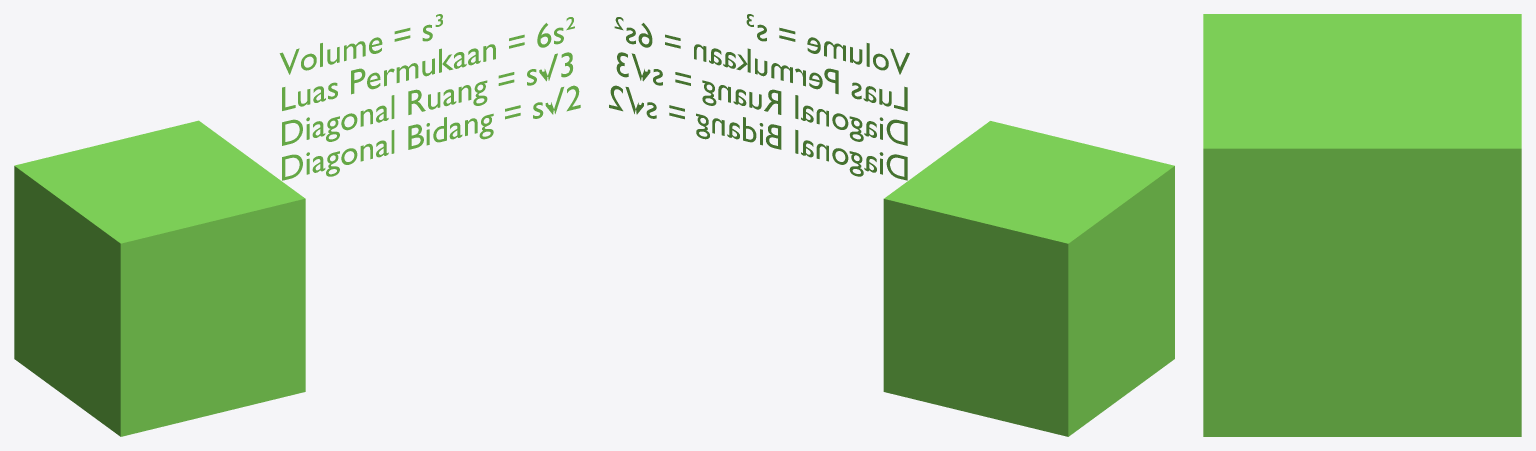
Rendered from kubus.glb.
3 renders of one model, left to right at view 1: azimuth 30°, elevation 25°; view 2: azimuth 150°, elevation 25°; view 3: azimuth 270°, elevation 25°, orthographic. The views are drawn at different scales.
Visible parts, largest first — view 1: world, Text; view 2: world, Text; view 3: world.
Boxes of the visible parts, x1,y1,x2,y2 form: world: (14,120,305,436); Text: (279,14,580,180); world: (883,121,1174,436); Text: (609,14,909,180); world: (1203,14,1521,436).
Bounding box in the file's own units: 2.78 × 1.52 × 1.
